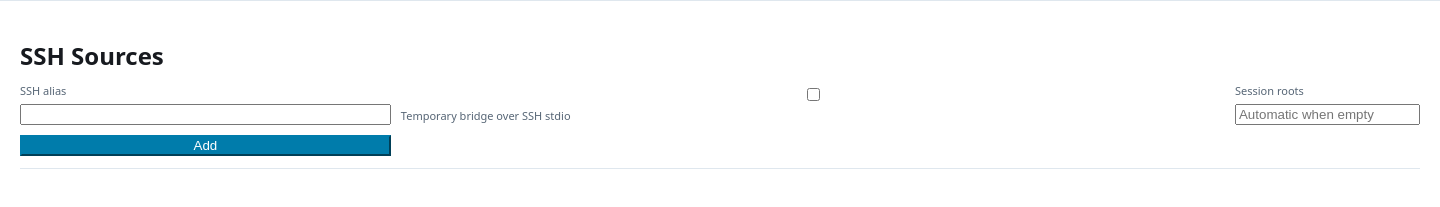
it: RemoteSourcesPanel › treats an empty Session roots field as automatic discovery
Type "fixture-host" into the field labelled "SSH alias". click: point(205, 114)
box: [20, 104, 391, 125]
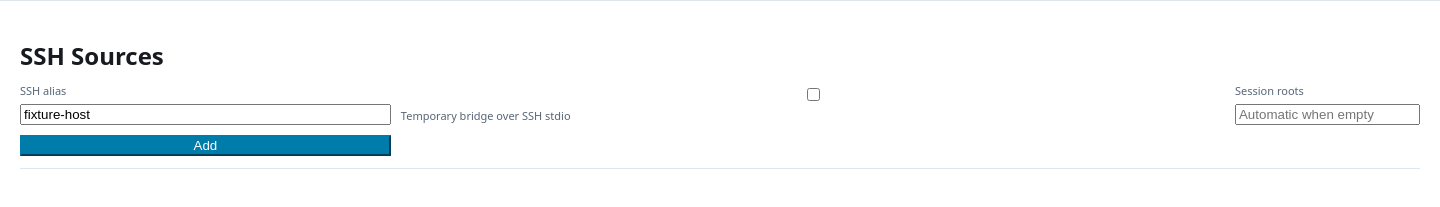
Click the button "Add". click: point(205, 145)
box: [20, 135, 391, 156]
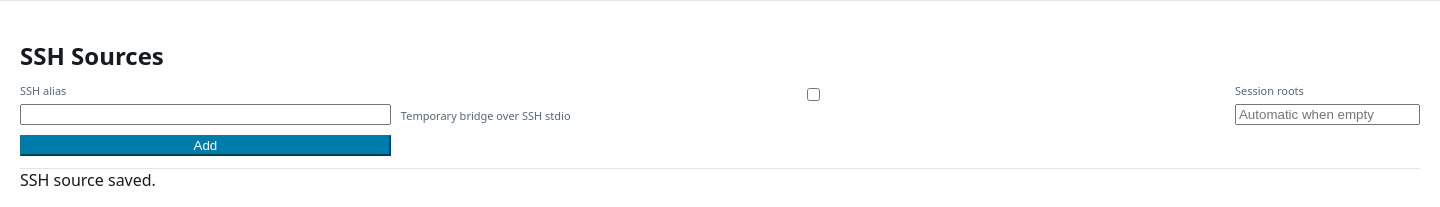
Expected: the message reads "SSH source saved.", [20, 169, 156, 191]
